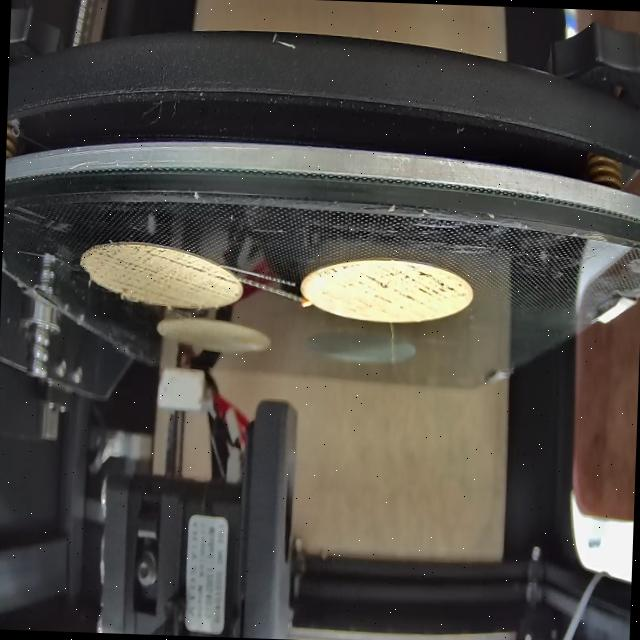under_extrusion: (96, 250, 238, 298), (317, 264, 473, 306)
